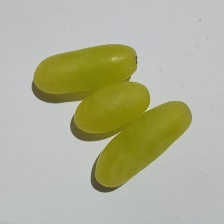grapes: (42, 41, 199, 183)
